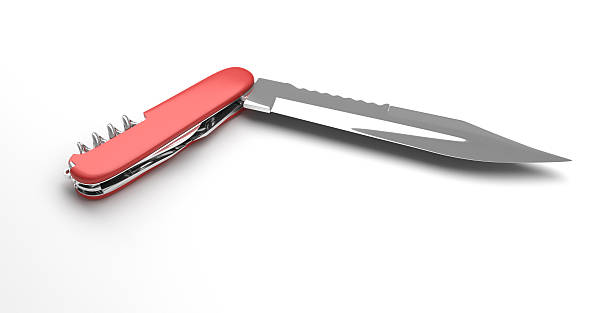knife: (240, 75, 573, 166)
